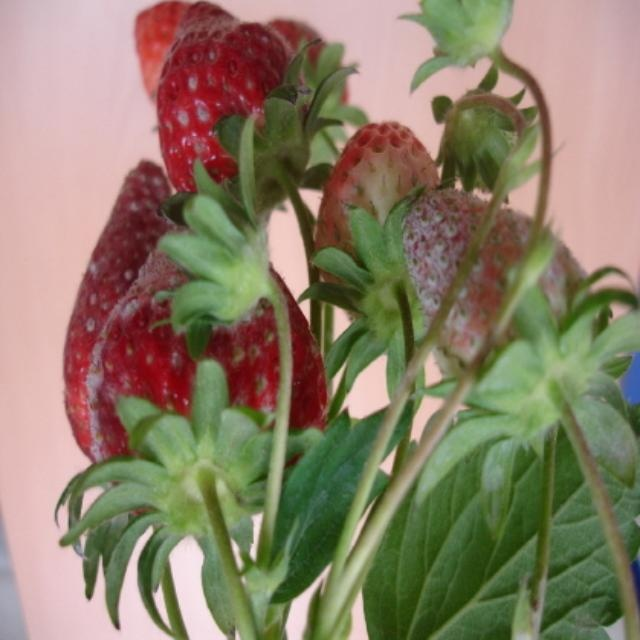Powdery Mildew Fruit: (84, 219, 283, 536), (399, 186, 615, 439), (61, 159, 176, 460), (155, 41, 298, 219)
